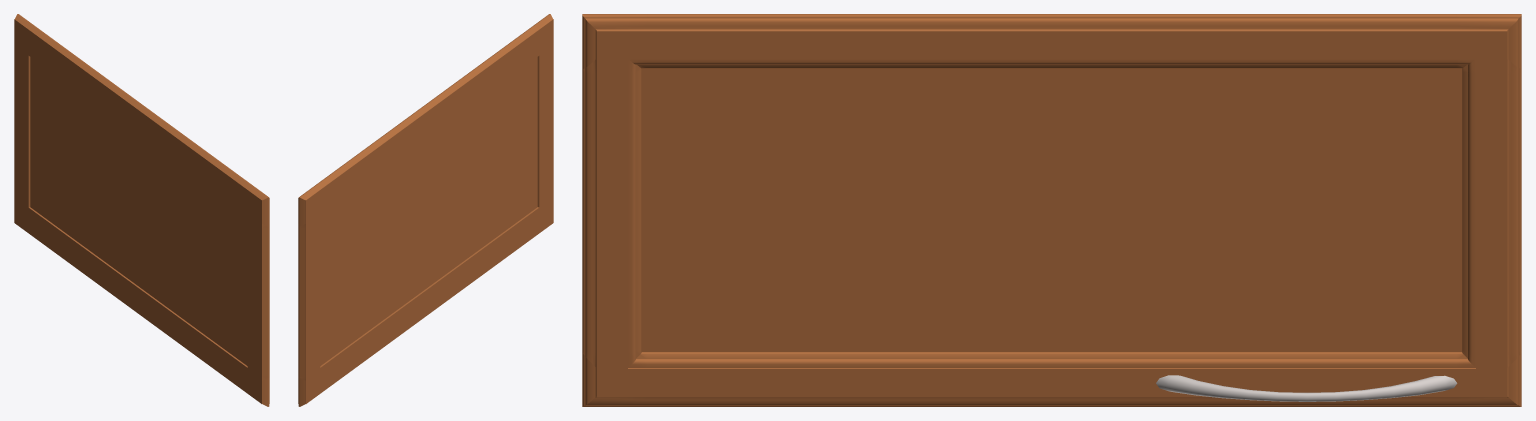
File: cabinet_right_door.dae
3 renders of one model, left to right at view 1: azimuth 30°, elevation 25°; view 2: azimuth 150°, elevation 25°; view 3: azimuth 270°, elevation 25°, orthographic. The views are drawn at different scales.
Parts seen in each view (by area): view 1: RB_31_CC, RB_31_CR, RB_31_CL, RB_31_TC, RB_31_BC (×2), RB_31_TR, RB_31_TL, RB_31_BR, RB_31_BL; view 2: RB_31_CC, RB_31_CR, RB_31_CL, RB_31_BC, RB_31_TC (×2), RB_31_BR, RB_31_BL, RB_31_TR, RB_31_TL; view 3: RB_31_CC, RB_31_CR, RB_31_CL, RB_31_BC (×2), RB_31_TC (×2), instance_10, RB_31_TR, RB_31_BR, RB_31_TL, RB_31_BL.
Boxes of the visible parts, left/top/right/bottom form: RB_31_CC: left=31, top=58, right=247, bottom=363; RB_31_CR: left=30, top=26, right=251, bottom=214; RB_31_CL: left=30, top=207, right=247, bottom=392; RB_31_TC: left=247, top=218, right=269, bottom=376; RB_31_BC (×2): left=14, top=47, right=31, bottom=205; RB_31_TR: left=246, top=185, right=269, bottom=227; RB_31_TL: left=246, top=366, right=269, bottom=406; RB_31_BR: left=14, top=14, right=35, bottom=57; RB_31_BL: left=14, top=195, right=31, bottom=233; RB_31_CC: left=320, top=58, right=536, bottom=363; RB_31_CR: left=316, top=26, right=537, bottom=214; RB_31_CL: left=320, top=207, right=537, bottom=392; RB_31_BC: left=298, top=218, right=320, bottom=376; RB_31_TC (×2): left=536, top=47, right=553, bottom=205; RB_31_BR: left=298, top=185, right=321, bottom=227; RB_31_BL: left=298, top=366, right=321, bottom=406; RB_31_TR: left=532, top=14, right=553, bottom=57; RB_31_TL: left=536, top=195, right=553, bottom=233; RB_31_CC: left=647, top=70, right=1456, bottom=348; RB_31_CR: left=647, top=14, right=1456, bottom=70; RB_31_CL: left=647, top=348, right=1456, bottom=406; RB_31_BC (×2): left=1456, top=70, right=1521, bottom=353; RB_31_TC (×2): left=582, top=70, right=647, bottom=353; instance_10: left=1156, top=375, right=1457, bottom=401; RB_31_TR: left=582, top=14, right=647, bottom=70; RB_31_BR: left=1456, top=14, right=1521, bottom=70; RB_31_TL: left=582, top=348, right=647, bottom=406; RB_31_BL: left=1456, top=348, right=1521, bottom=406.
Bounding box in the file's own units: 2.12 × 16 × 34.75.
